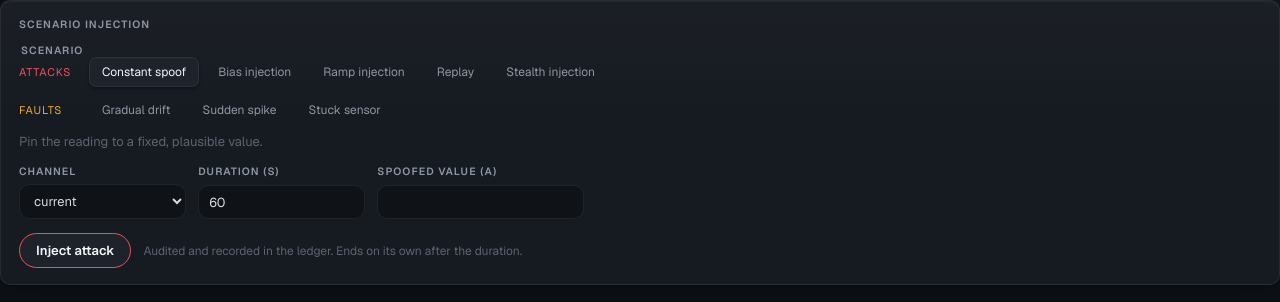
ScenarioInjectPanel › labels parameters with the channel unit and switches fields per scenario
Click the button with test id "scenario-ramp_fdi": point(364, 72) [310,57,418,87]
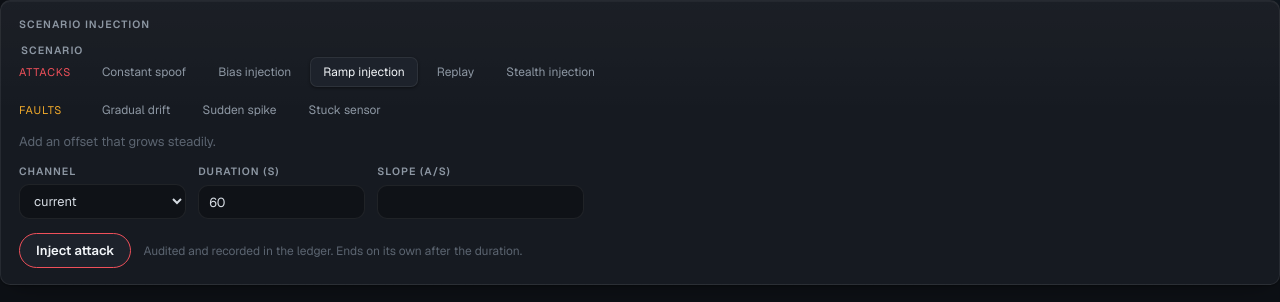
Result: the text "Slope (A/s)" is shown at [377,164,451,178]
Click the button with test id "scenario-stuck_at": point(345, 110) [296,95,394,125]
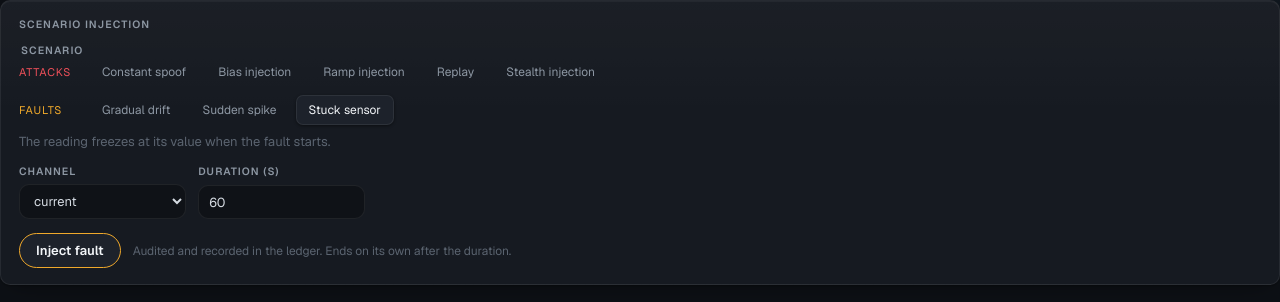
Result: the button with test id "inject-submit" reads "Inject fault" at [19,233,121,268]
